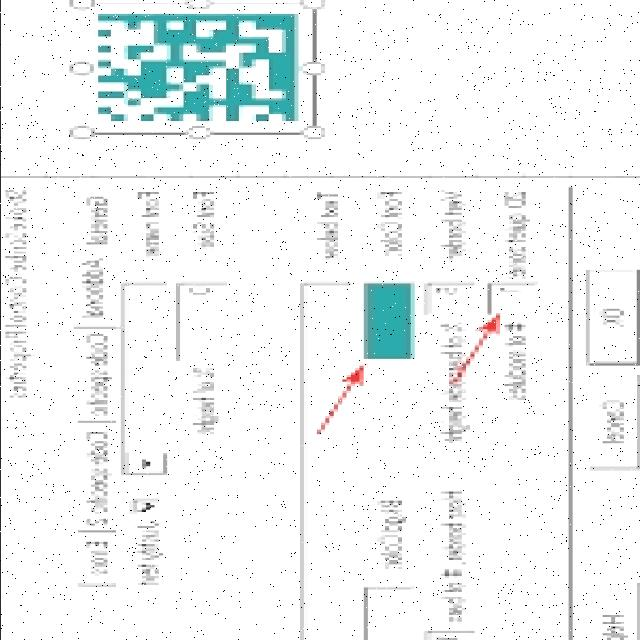datamatrix: (85, 7, 308, 128)
